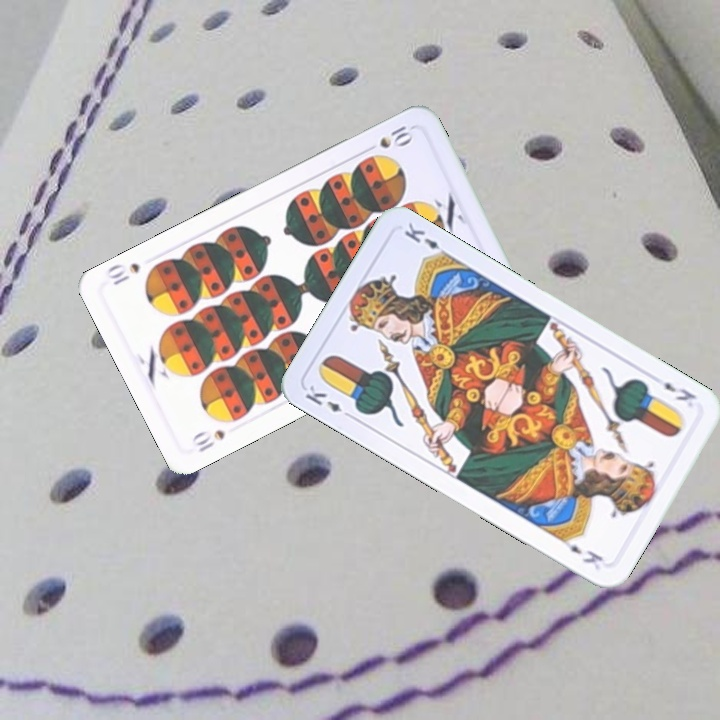EK: (301, 381, 356, 422), (659, 377, 699, 404)
S10: (375, 121, 416, 151), (188, 425, 228, 455)
